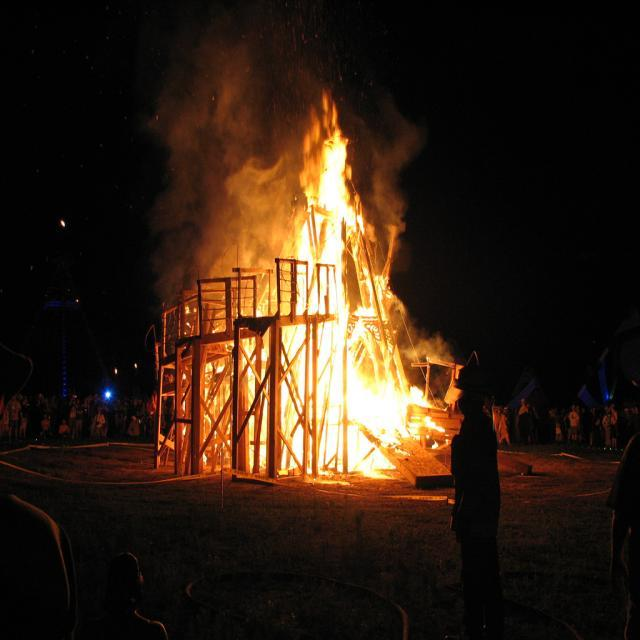Fire: (276, 320, 420, 477), (302, 118, 352, 317)
